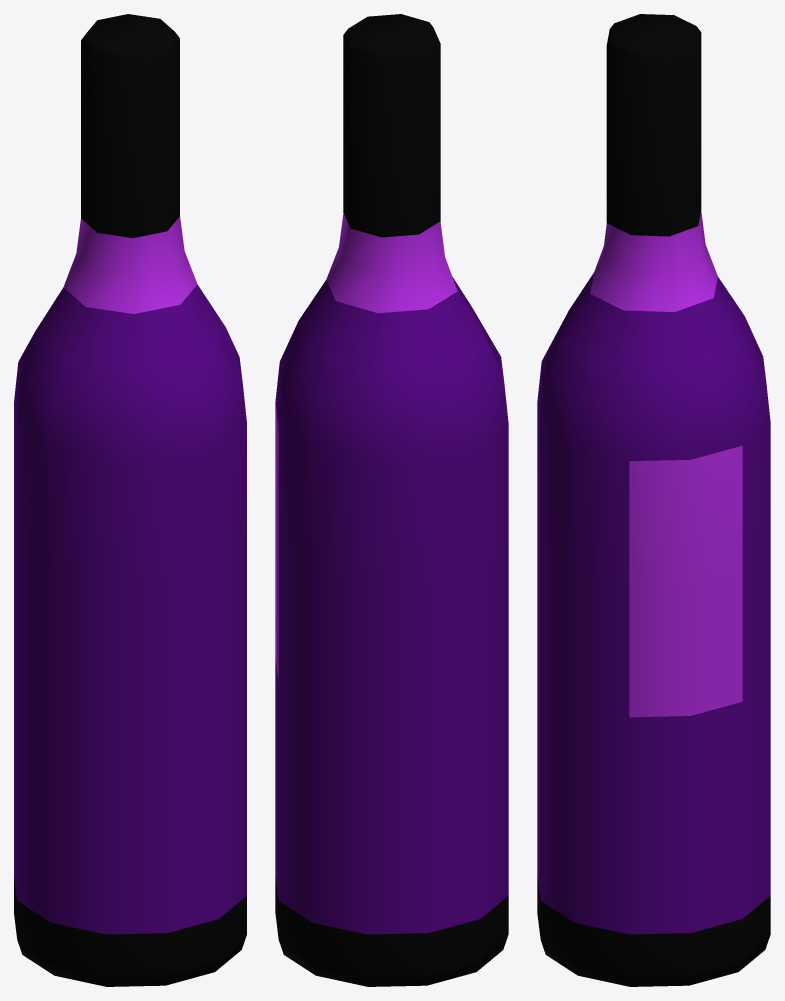
Rendered from Purple.fbx.
3 renders of one model, left to right at view 1: azimuth 30°, elevation 25°; view 2: azimuth 150°, elevation 25°; view 3: azimuth 270°, elevation 25°, orthographic.
Parts seen in each view (by area): view 1: Purple; view 2: Purple; view 3: Purple.
Part boxes in pixels (x1,y1,x2,y2): Purple: (14, 14, 246, 986); Purple: (275, 14, 508, 986); Purple: (537, 14, 770, 986).
Size of the model in its own units: 6.45 by 27.9 by 6.45.
